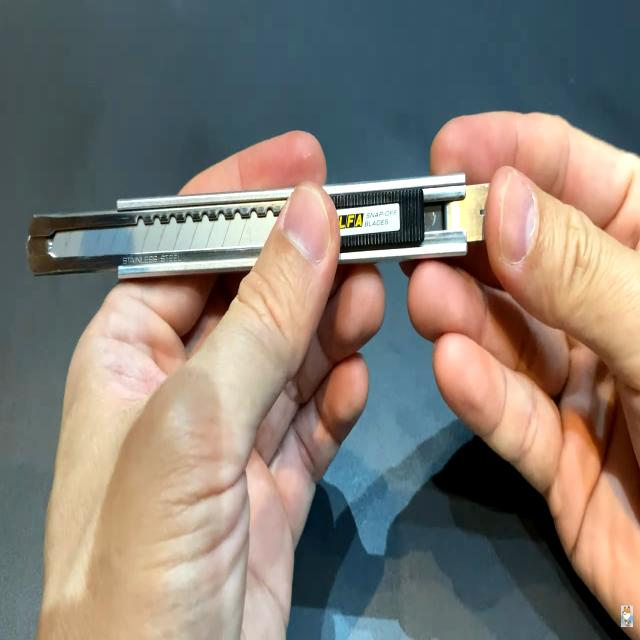cutter: (0, 51, 617, 367)
